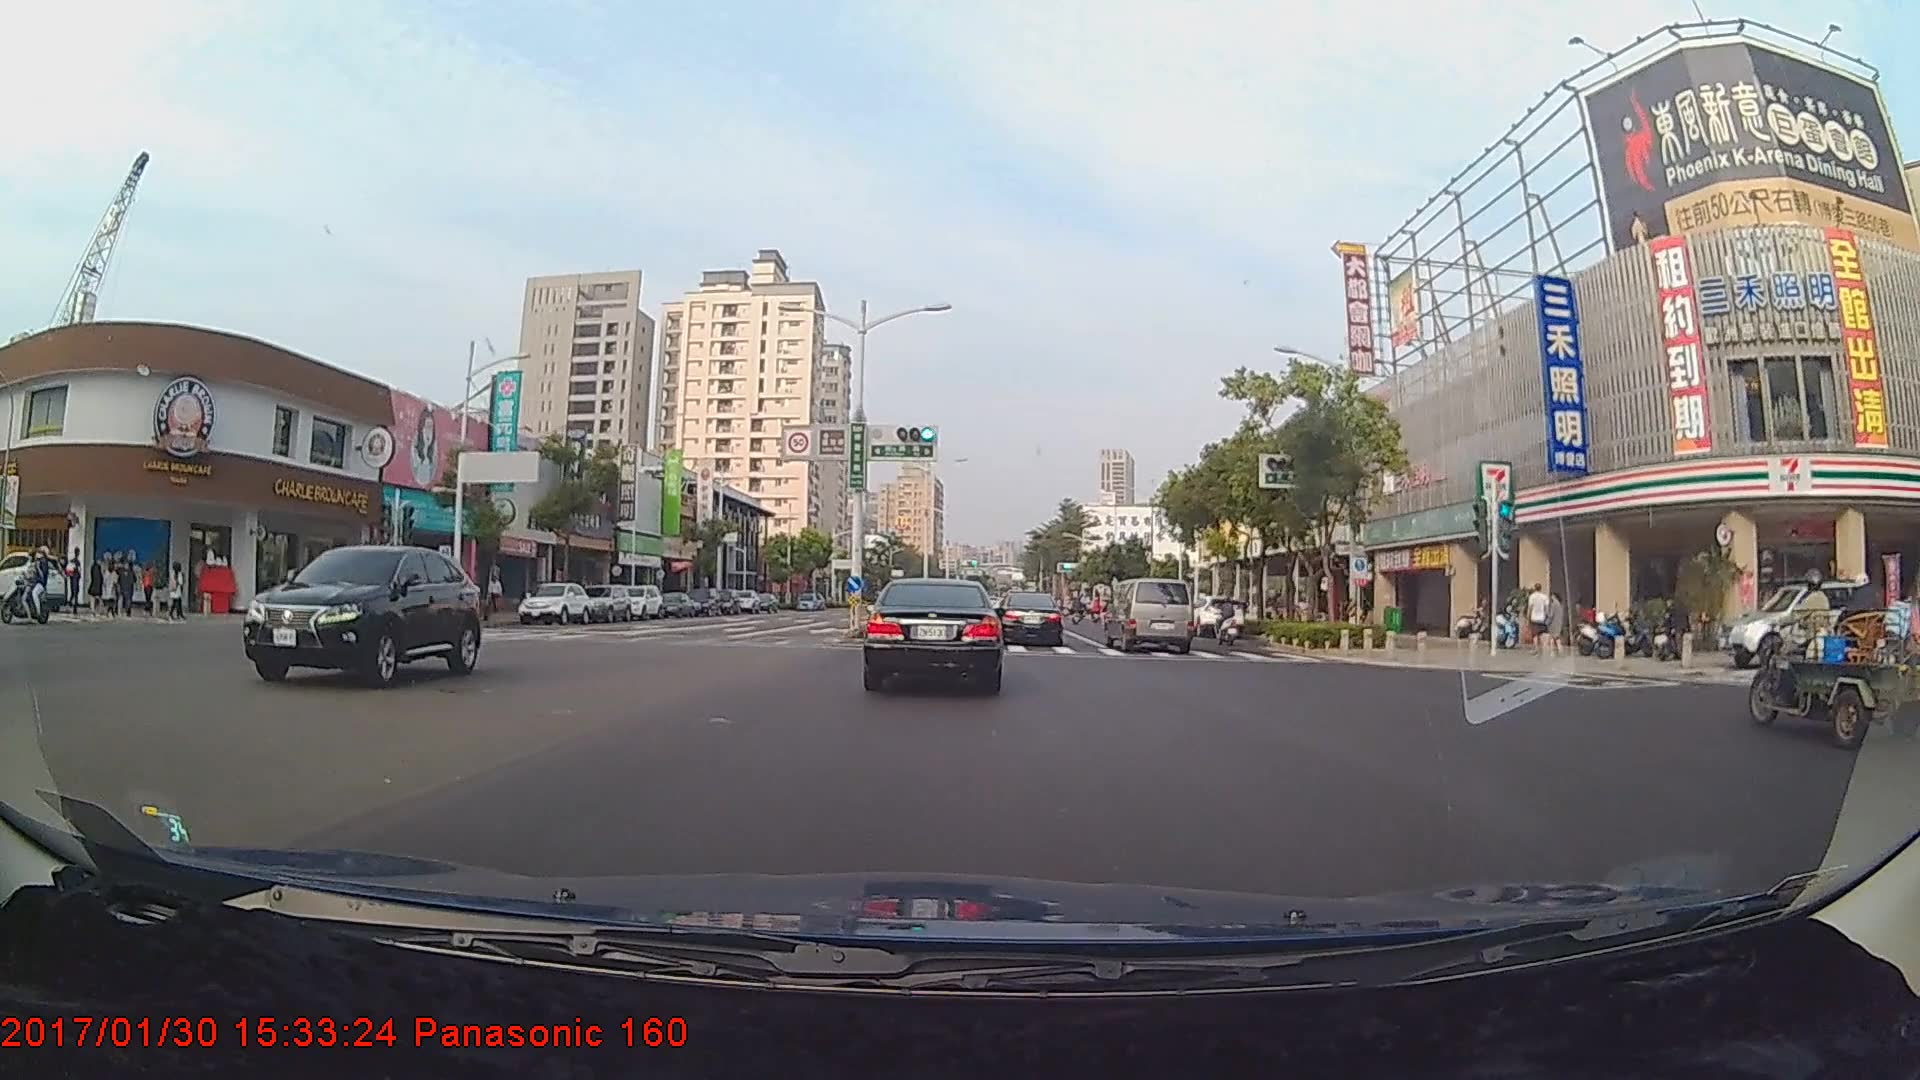pedestrian: (1526, 585, 1552, 656), (1547, 595, 1569, 663), (113, 557, 136, 616)
rider: (5, 541, 56, 631), (1211, 594, 1246, 646)
vehicle: (249, 540, 484, 687), (864, 574, 1002, 693), (1716, 581, 1874, 670), (1106, 577, 1193, 654), (993, 594, 1065, 648), (514, 581, 591, 626), (1188, 594, 1247, 638), (579, 583, 631, 622), (615, 584, 663, 622), (661, 588, 697, 619)
